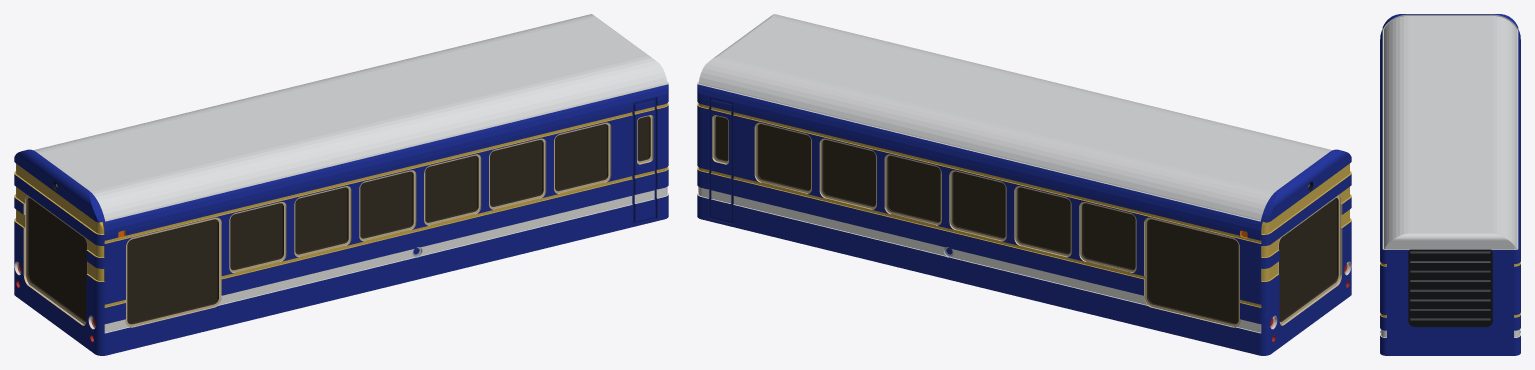
File: bluetrain.glb
3 renders of one model, left to right at view 1: azimuth 30°, elevation 25°; view 2: azimuth 150°, elevation 25°; view 3: azimuth 270°, elevation 25°, orthographic. The views are drawn at different scales.
Visible parts, largest first — view 1: za_bluetrain; view 2: za_bluetrain; view 3: za_bluetrain.
Boxes of the visible parts, <box> form: za_bluetrain: <box>14,14,668,355</box>; za_bluetrain: <box>697,14,1351,355</box>; za_bluetrain: <box>1380,14,1520,355</box>.
Bounding box in the file's own units: 150 × 38 × 40.
